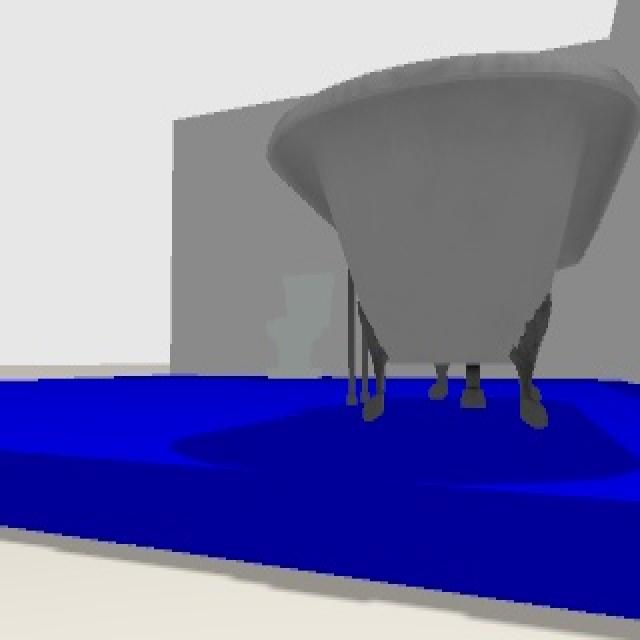bathtub: (266, 43, 638, 443)
